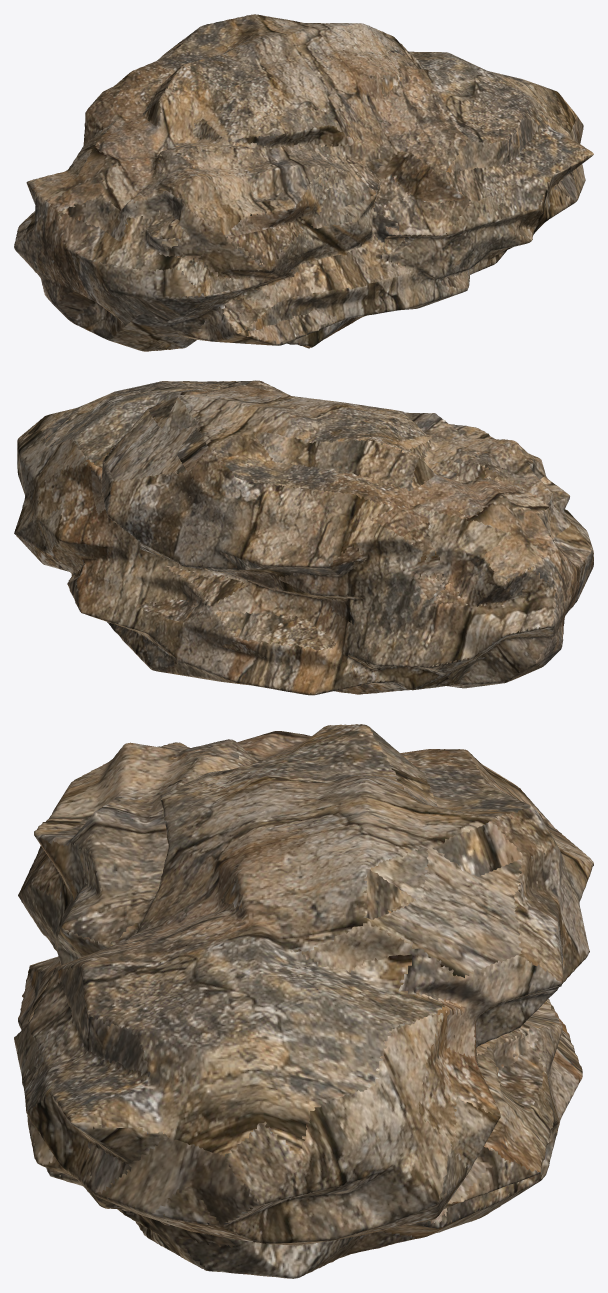
The model's file is snow-boulder-v01.glb.
3 views of the same model, one above another, from view 1: azimuth 30°, elevation 25°; view 2: azimuth 150°, elevation 25°; view 3: azimuth 270°, elevation 25° (orthographic). The views are drawn at different scales.
Visible parts, largest first — view 1: snow-boulder-v01 detailed; view 2: snow-boulder-v01 detailed; view 3: snow-boulder-v01 detailed.
Part boxes in pixels (box(x1,y1,x2,y2)): snow-boulder-v01 detailed: box(14, 14, 593, 351); snow-boulder-v01 detailed: box(14, 380, 593, 695); snow-boulder-v01 detailed: box(14, 724, 593, 1278).
Size of the model in its own units: 3.55 by 1.58 by 2.1.
Materials: 1 (1 with a texture image).
